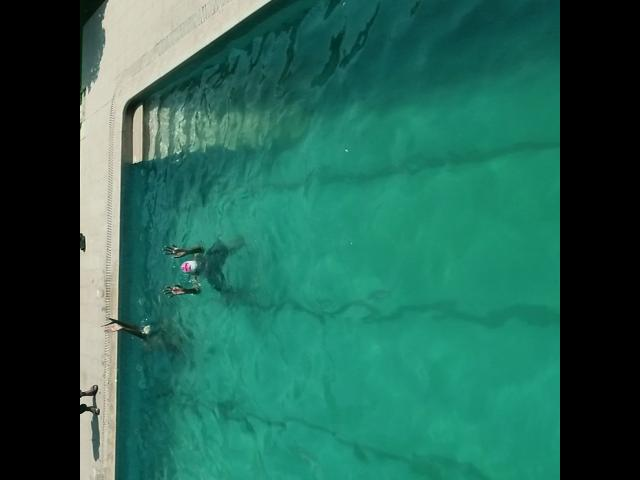drowning: (156, 240, 248, 298), (102, 313, 186, 351)
